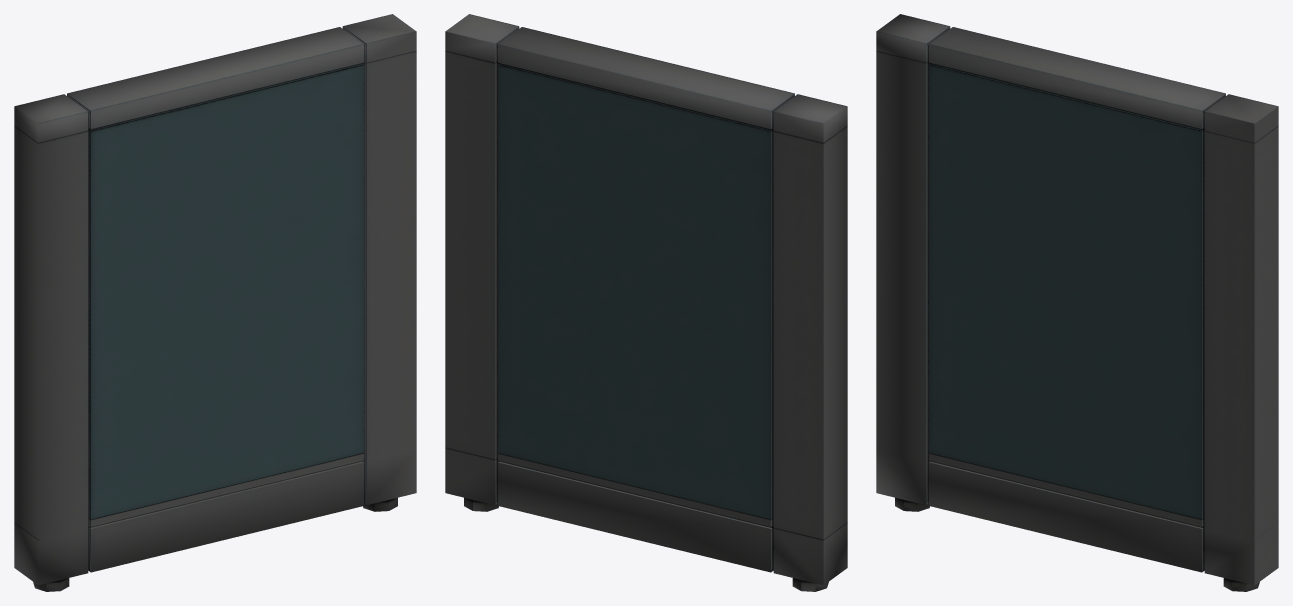
The model's file is ENV_LowPartition_1m_v001.fbx.
3 views of the same model, side by side, from view 1: azimuth 30°, elevation 25°; view 2: azimuth 150°, elevation 25°; view 3: azimuth 330°, elevation 25° (orthographic).
Visible parts, largest first — view 1: 큐브; view 2: 큐브; view 3: 큐브.
Part boxes in pixels (box(x1,y1,x2,y2)): 큐브: box(14, 14, 416, 591); 큐브: box(445, 14, 847, 591); 큐브: box(876, 14, 1278, 591).
Bounding box in the file's own units: 99.82 × 120 × 10.97.
1 material, 1 textured.
